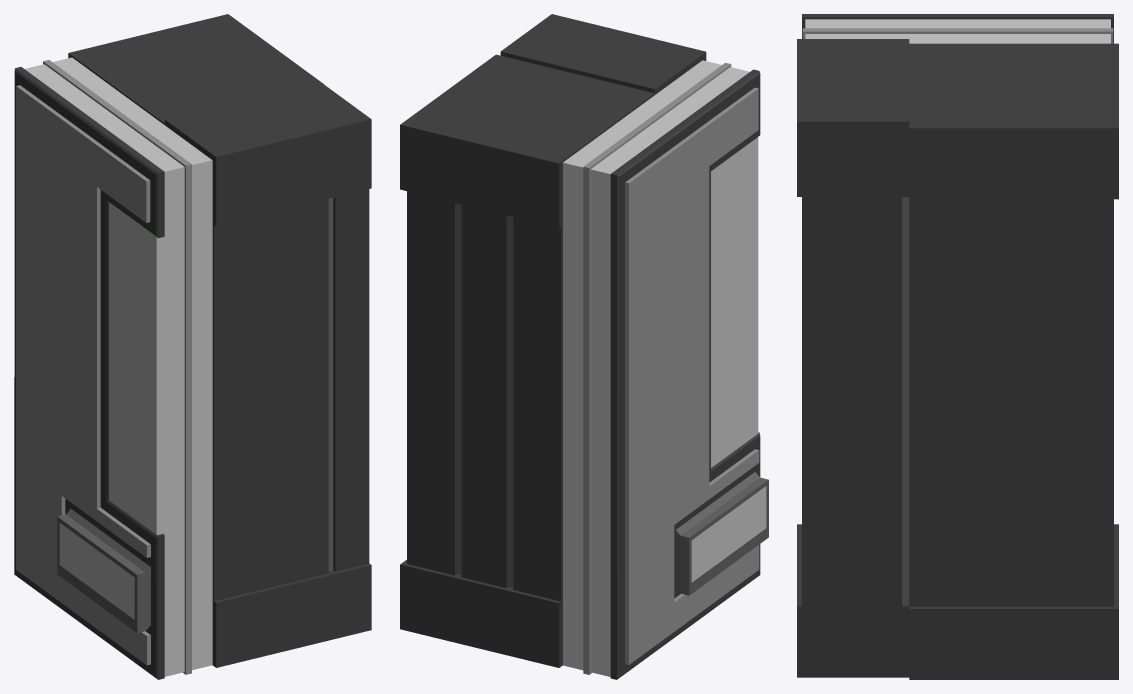
File: Vending_Machine_02.FBX
3 renders of one model, left to right at view 1: azimuth 30°, elevation 25°; view 2: azimuth 150°, elevation 25°; view 3: azimuth 270°, elevation 25°, orthographic. The views are drawn at different scales.
Parts seen in each view (by area): view 1: Vending_Machine_02_LOD0, Vending_Machine_02_Door; view 2: Vending_Machine_02_LOD0, Vending_Machine_02_Door; view 3: Vending_Machine_02_LOD0.
Boxes of the visible parts, bbox=[...] form: Vending_Machine_02_LOD0: bbox=[14, 14, 371, 679]; Vending_Machine_02_Door: bbox=[59, 523, 134, 619]; Vending_Machine_02_LOD0: bbox=[400, 14, 768, 679]; Vending_Machine_02_Door: bbox=[691, 486, 766, 582]; Vending_Machine_02_LOD0: bbox=[797, 14, 1118, 679].
Size of what is drawn, in the model's own units: 59.09 by 126 by 65.61.
